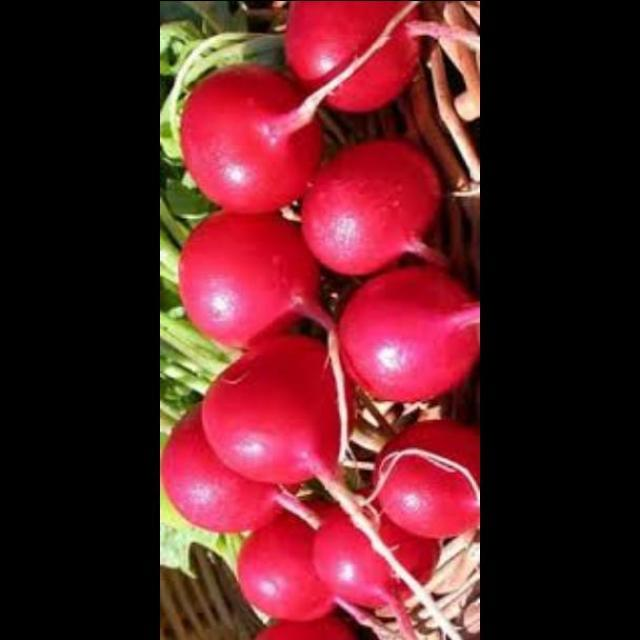rediska: (173, 198, 330, 351), (178, 60, 326, 214), (197, 342, 348, 478), (296, 134, 442, 274), (334, 264, 479, 404), (160, 391, 308, 527), (303, 492, 438, 616), (282, 0, 430, 112), (362, 414, 478, 540), (231, 517, 340, 628), (245, 614, 372, 640)
